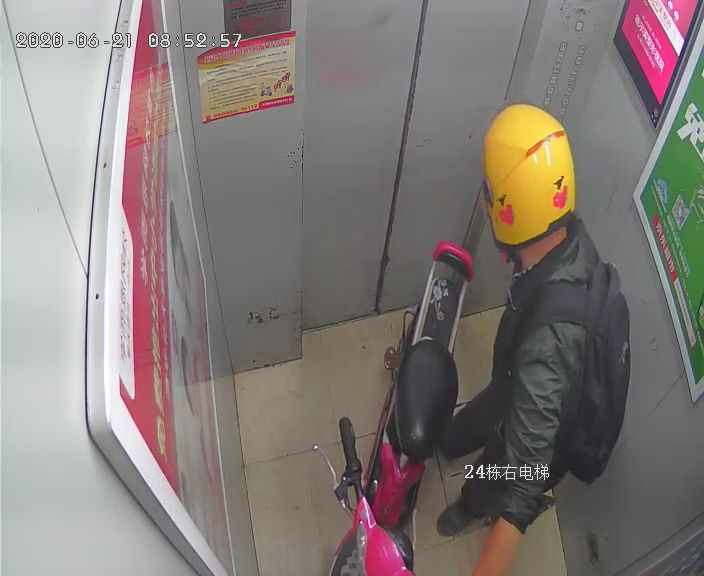Electric-bicycle: (316, 242, 472, 571)
